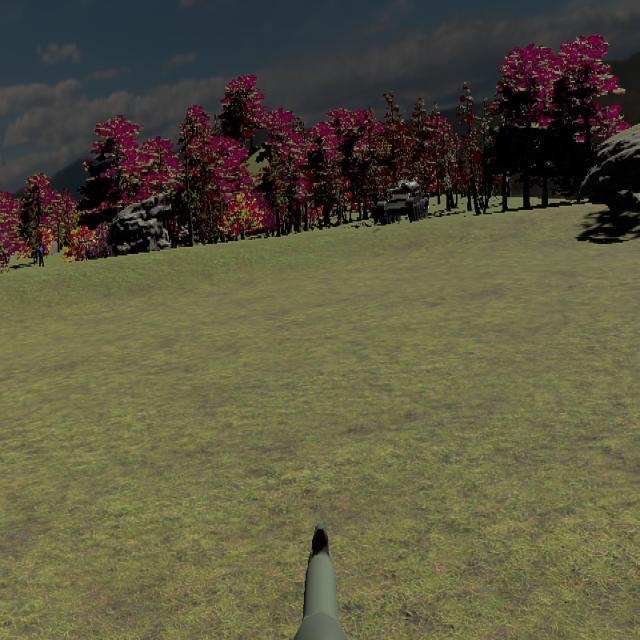Tank: (375, 178, 429, 225)
